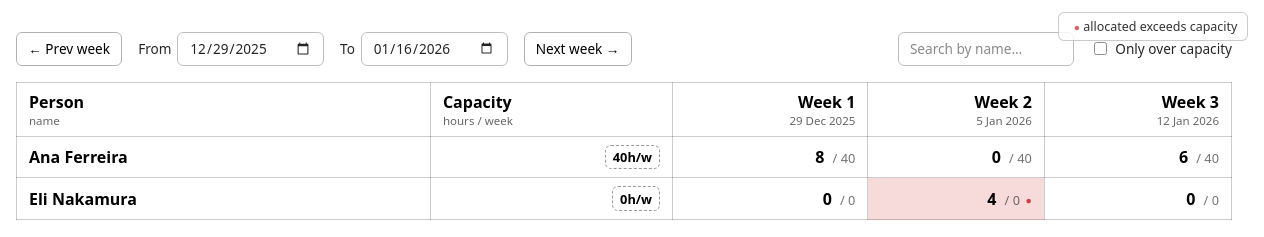
Test: CapacityGrid › filters people by name search
Check: the column heading "Ana Ferreira" is shown, box [16,136,430,178]
Step 1. Type "eli" into the search field labelled "Search by name" → (986, 49), box [898,32,1074,66]
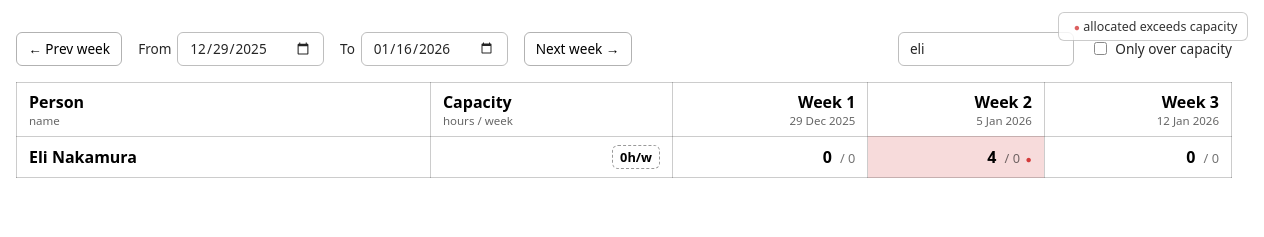
Check: the column heading "Eli Nakamura" is shown, box [16,136,430,178]
Check: the column heading "Ana Ferreira" is gone
